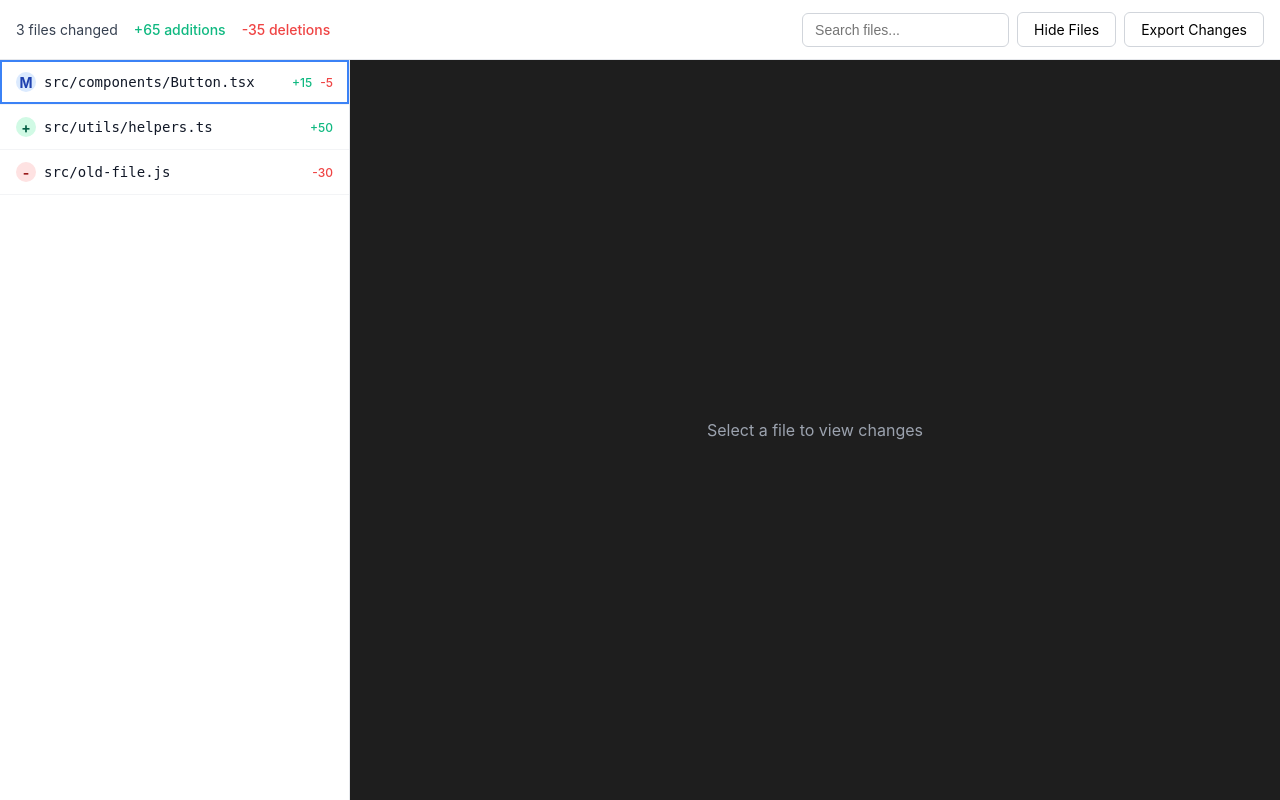
CodeChangesView › File List › filters files by search
The width and height of the screenshot is (1280, 800).
Type "Button" into the field with placeholder "Search files...".
click(906, 30); type("Button")  # box [802,12,1009,46]
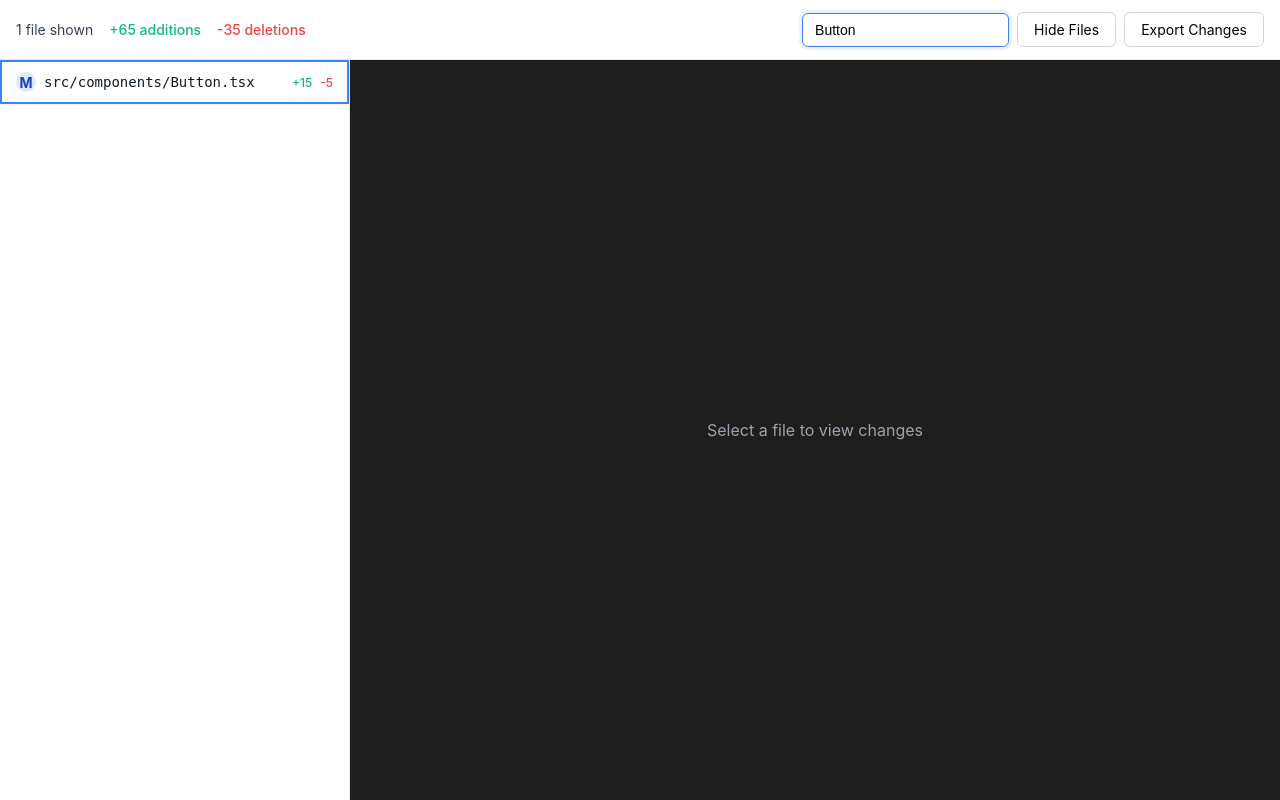
Expected: the text "src/components/Button.tsx" is shown, [44,74,255,90]
Expected: the text "src/utils/helpers.ts" is gone
Expected: the text "src/old-file.js" is gone
